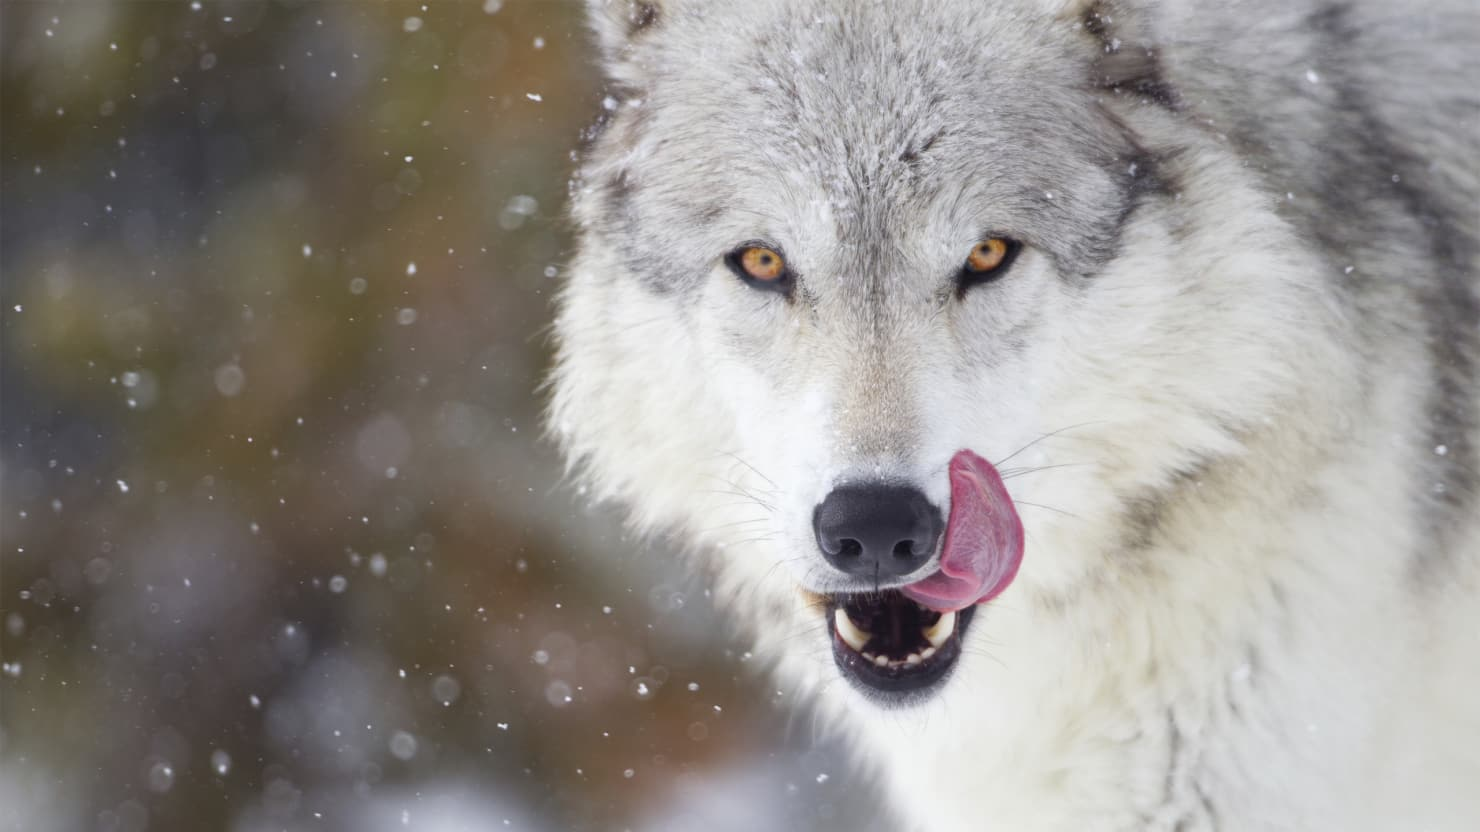wolf: (574, 5, 1480, 824)
